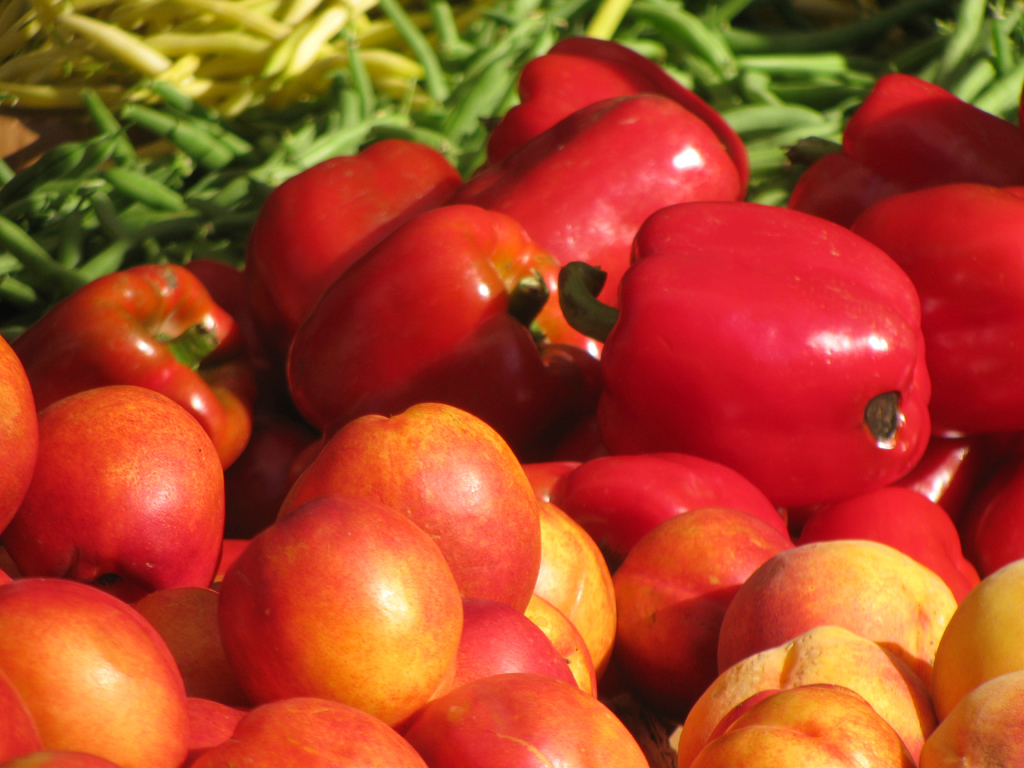Apple: (0, 327, 1023, 767), (204, 486, 457, 726)
